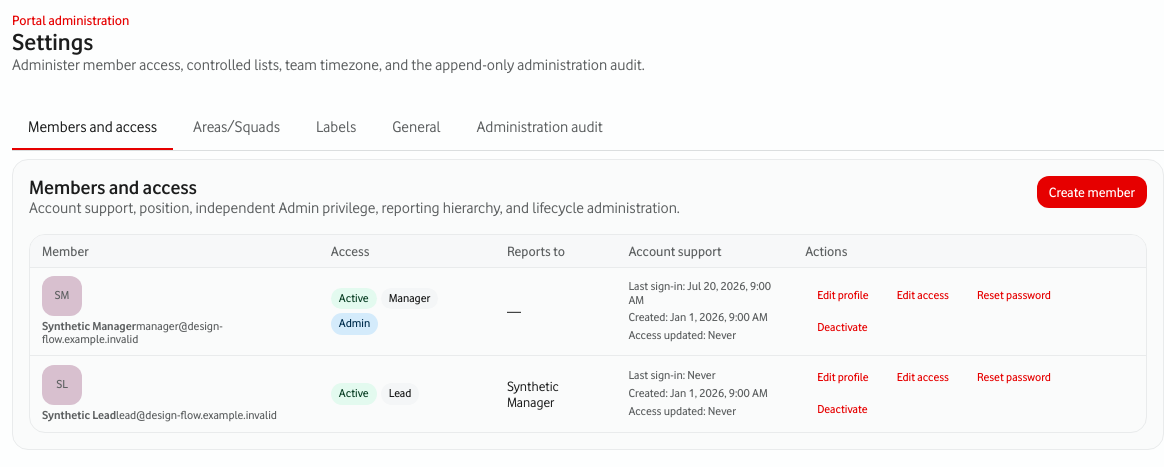
Test case: SettingsRoute › renders one URL-backed approved Admin panel at a time
Expected: the heading "Members and access" is shown, [29,176,197,198]
Click the tab "General": {"x": 416, "y": 128} [376,106,457,150]
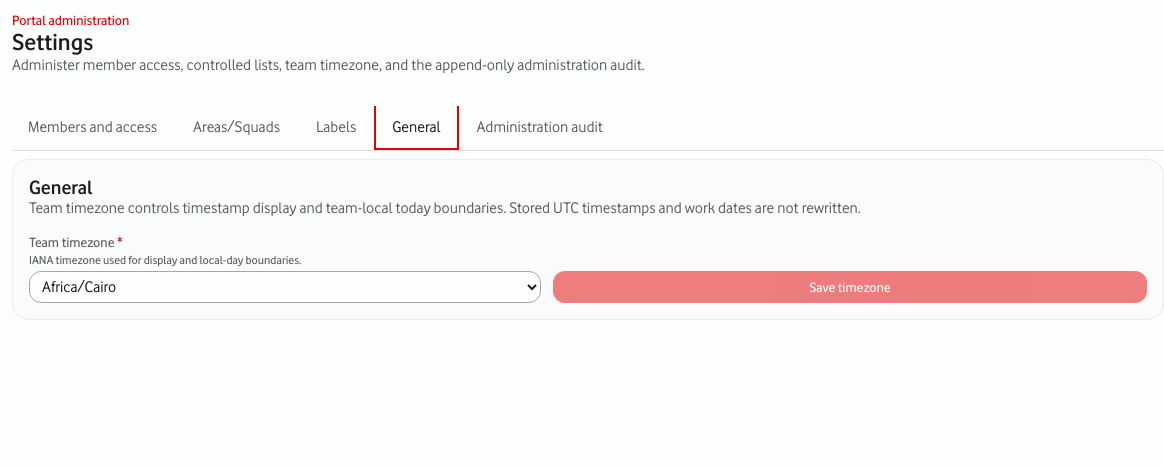
Expected: the heading "General" is shown, [29,176,93,198]
Expected: the button "Save timezone" is disabled, [553,271,1147,303]
